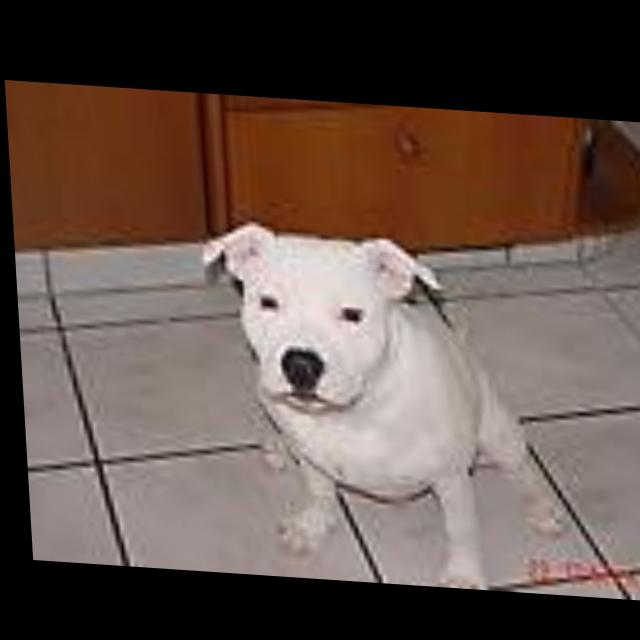staffford: (196, 213, 528, 587)
